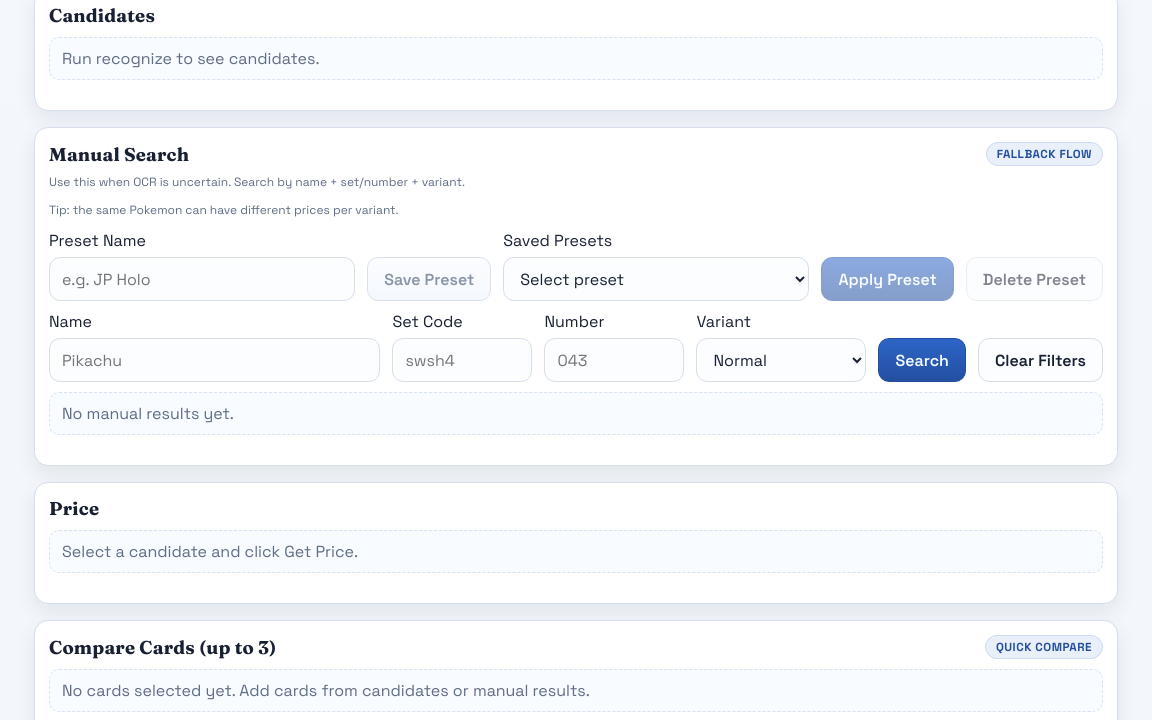
Test case: HomePage › shows manual search skeleton while search is loading
(page scrolled)
Type "Charizard" into the field labelled "Name" at (215, 360), box [49,338,380,382]
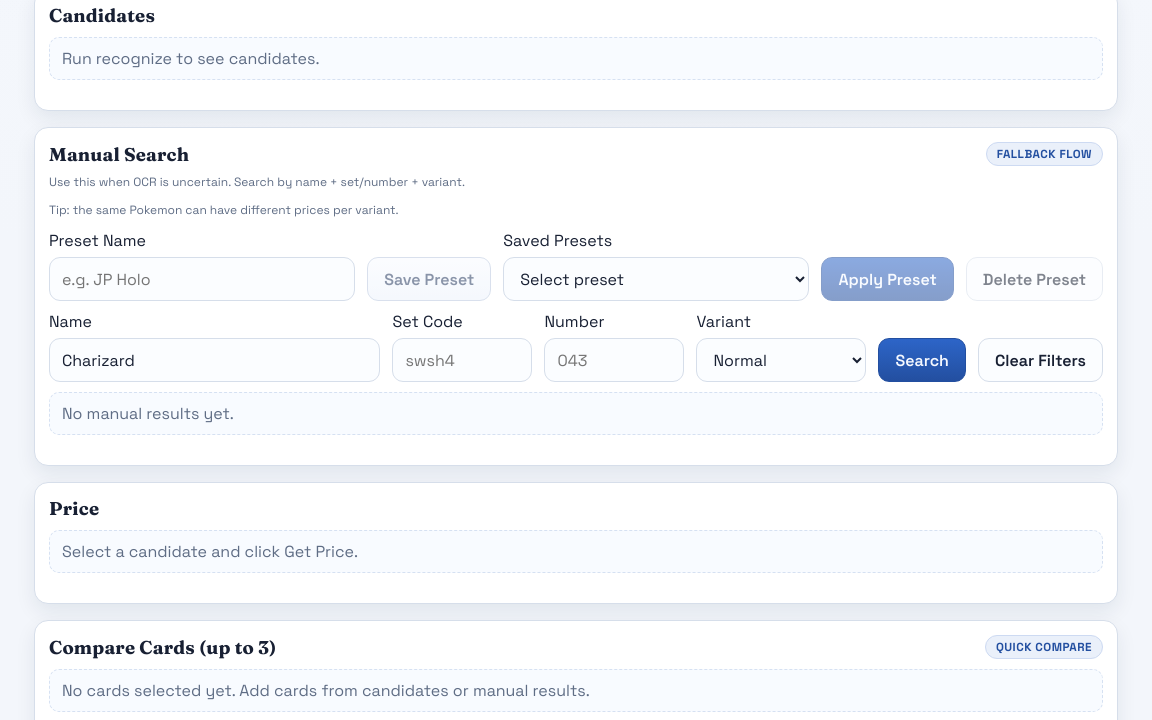
Click the button "Search" at (922, 360), box [878,338,966,382]
(page scrolled)
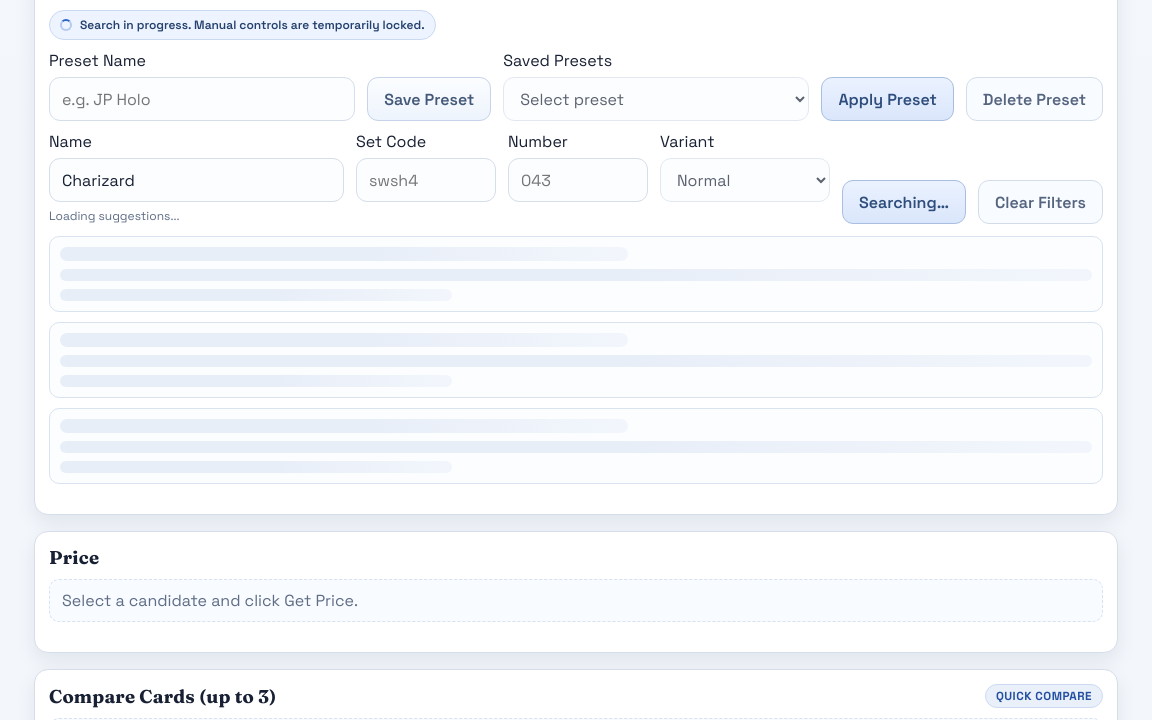
Check: the list named "Manual search loading skeleton" is shown, box [49,236,1103,484]
